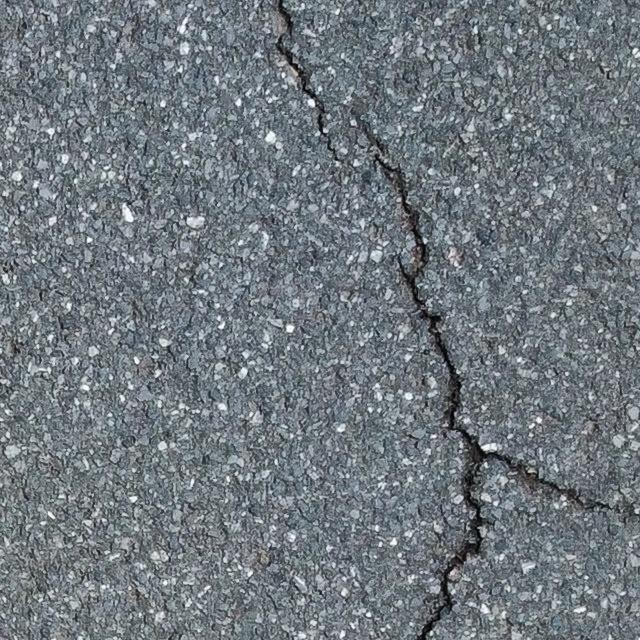LongitudinalCrack: (346, 111, 487, 640), (273, 3, 345, 165)
TransverseCrack: (483, 445, 614, 515)
